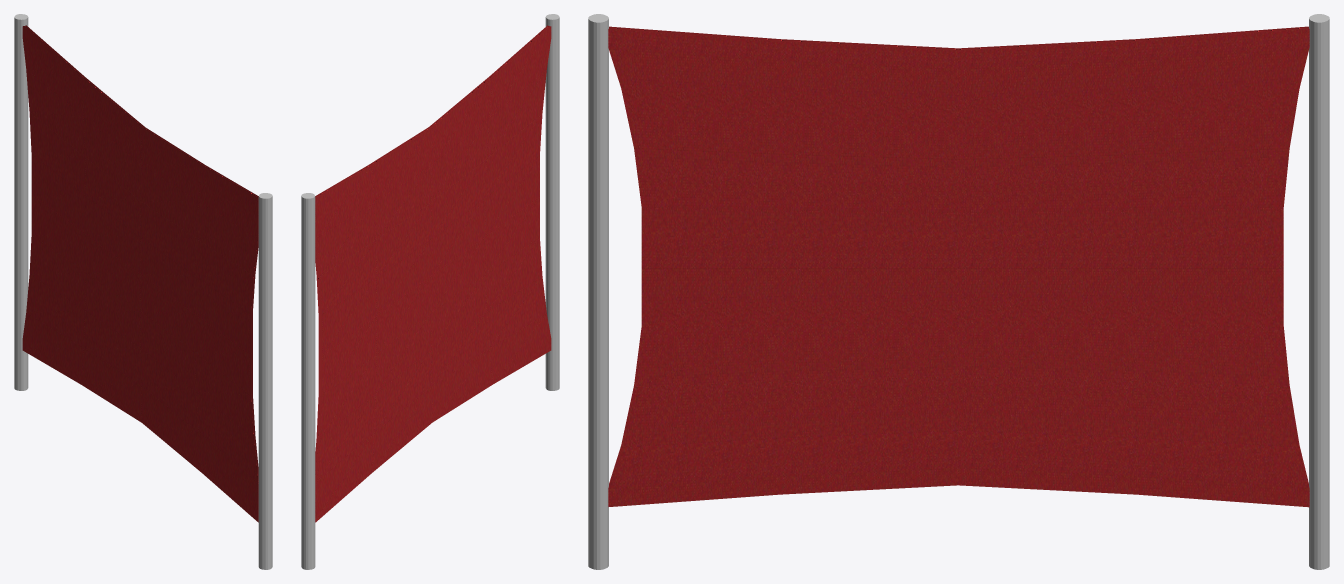
Rendered from market barrier.fbx.
3 views of the same model, side by side, from view 1: azimuth 30°, elevation 25°; view 2: azimuth 150°, elevation 25°; view 3: azimuth 270°, elevation 25° (orthographic). The views are drawn at different scales.
Visible parts, largest first — view 1: Cube.002, Cube, Cube.001; view 2: Cube.002, Cube.001, Cube; view 3: Cube.002, Cube, Cube.001.
Boxes of the visible parts, x1,y1,x2,y2 form: Cube.002: [22, 25, 258, 522]; Cube: [258, 193, 272, 569]; Cube.001: [14, 14, 28, 390]; Cube.002: [315, 25, 551, 522]; Cube.001: [301, 193, 315, 569]; Cube: [545, 14, 559, 390]; Cube.002: [608, 26, 1309, 507]; Cube: [588, 14, 608, 569]; Cube.001: [1309, 14, 1329, 569].
Size of the model in its own units: 48.33 by 1431 by 1755.
